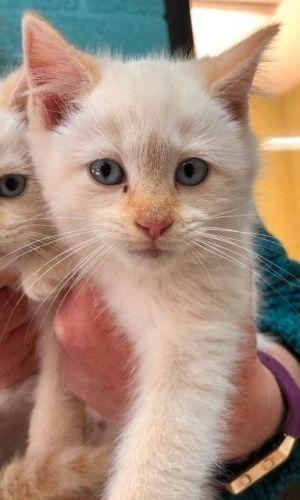siamese: (10, 10, 298, 296)
